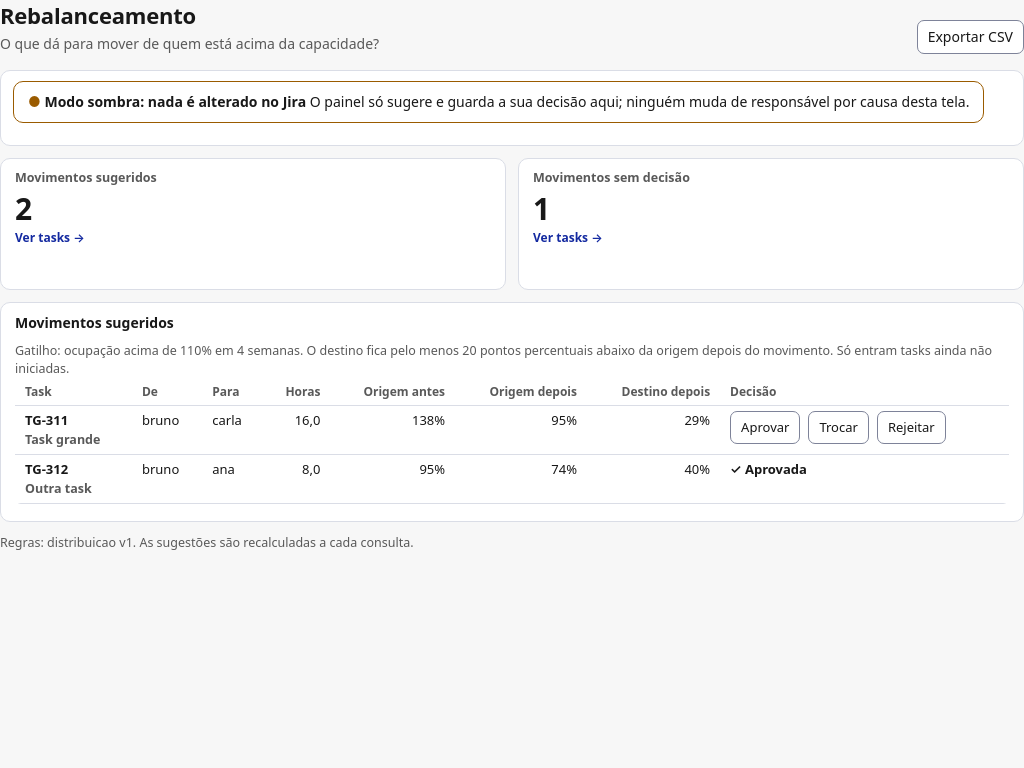
Test case: tela Rebalanceamento › numeroAbreAGavetaDoMesmoTamanho
Expected: the table named "Movimentos sugeridos" is shown, [15,378,1009,504]
Click the button named "Movimentos sem decisão": (561, 237) [533,192,1009,246]
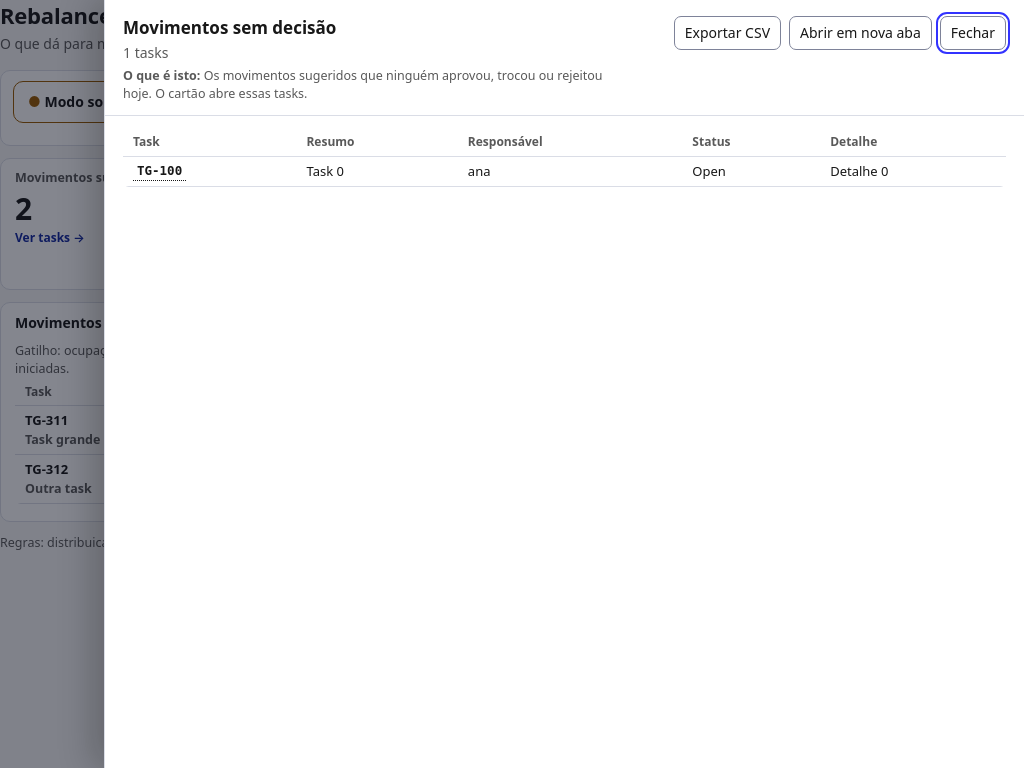
Expected: the dialog is shown
